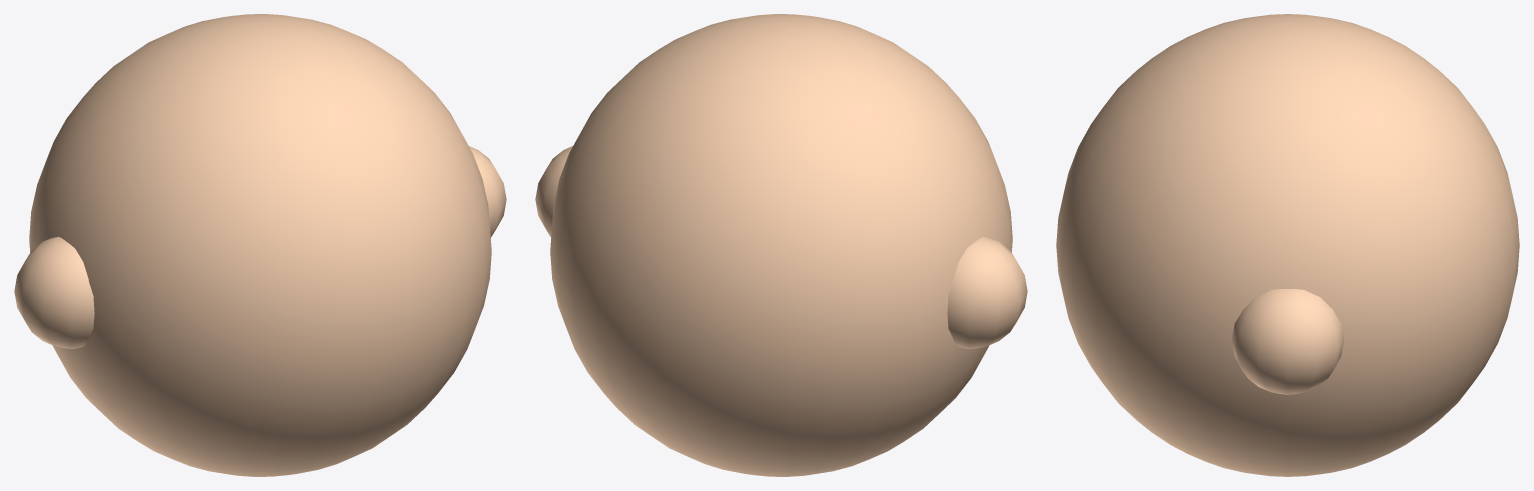
File: head.glb
3 views of the same model, side by side, from view 1: azimuth 30°, elevation 25°; view 2: azimuth 150°, elevation 25°; view 3: azimuth 270°, elevation 25° (orthographic).
Visible parts, largest first — view 1: skin (×3); view 2: skin (×3); view 3: skin (×2).
Boxes of the visible parts, left/top/right/bottom form: skin (×3): left=14, top=14, right=506, bottom=476; skin (×3): left=535, top=14, right=1027, bottom=476; skin (×2): left=1056, top=14, right=1519, bottom=476.
Size of the model in its own units: 11.4 by 9.6 by 9.6.
